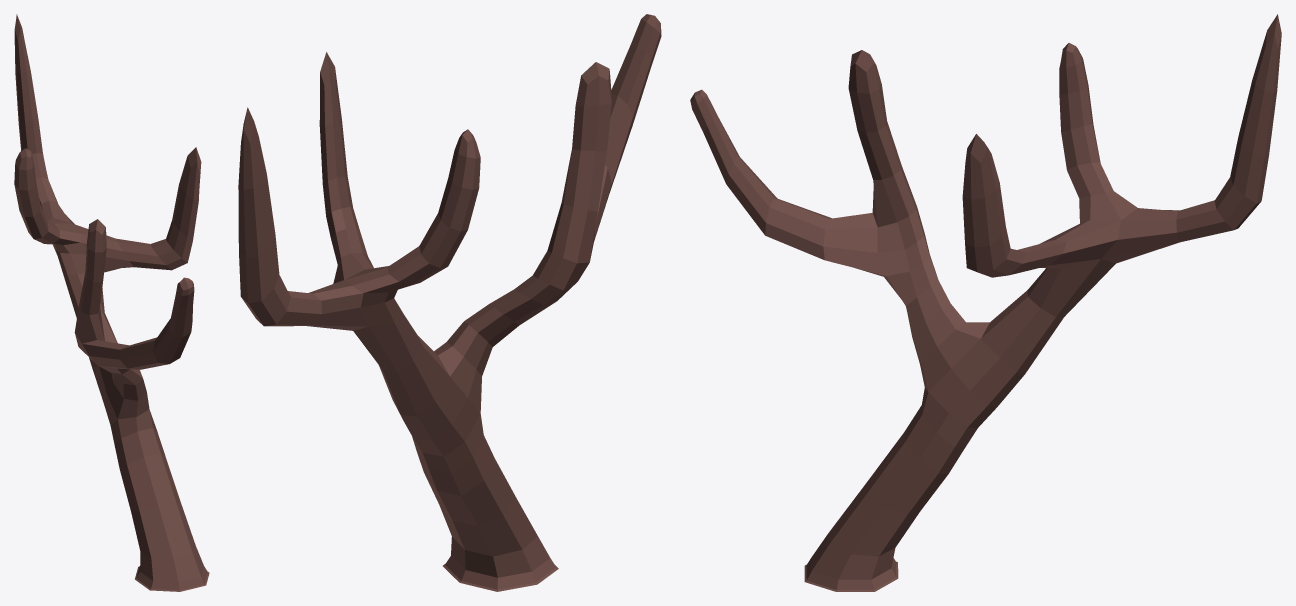
Rendered from willow_dead_4.glb.
3 views of the same model, side by side, from view 1: azimuth 30°, elevation 25°; view 2: azimuth 150°, elevation 25°; view 3: azimuth 270°, elevation 25° (orthographic). The views are drawn at different scales.
Parts seen in each view (by area): view 1: Willow_Dead_4; view 2: Willow_Dead_4; view 3: Willow_Dead_4.
Boxes of the visible parts, x1,y1,x2,y2 form: Willow_Dead_4: (14, 14, 209, 591); Willow_Dead_4: (238, 14, 661, 591); Willow_Dead_4: (690, 14, 1281, 591).
Size of the model in its own units: 1.01 by 2.72 by 2.59.
